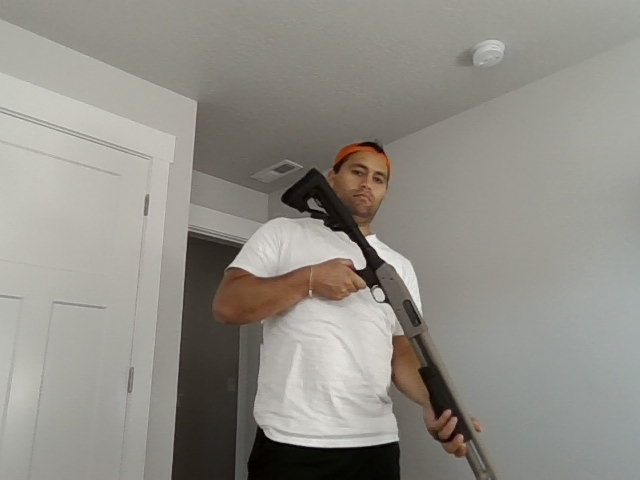shotgun: (279, 164, 505, 477)
